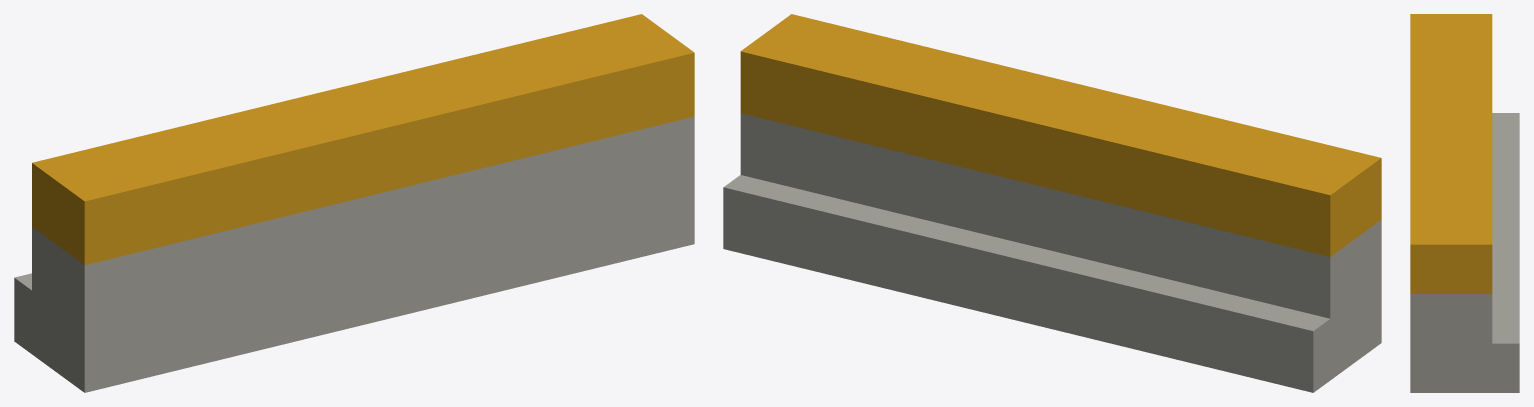
The model's file is ws_wall_low_half.glb.
3 renders of one model, left to right at view 1: azimuth 30°, elevation 25°; view 2: azimuth 150°, elevation 25°; view 3: azimuth 270°, elevation 25°, orthographic. The views are drawn at different scales.
Parts seen in each view (by area): view 1: wall; view 2: wall; view 3: wall.
Part boxes in pixels (box(x1,y1,x2,y2)): wall: box(14, 14, 694, 392); wall: box(723, 14, 1381, 392); wall: box(1410, 14, 1519, 392).
Bounding box in the file's own units: 2 × 0.6 × 0.4.
